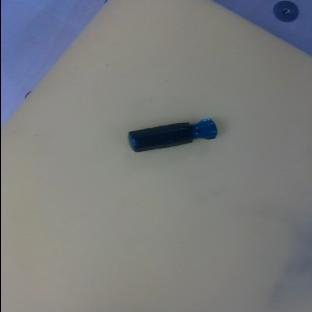part_2_bad: (125, 117, 217, 154)
